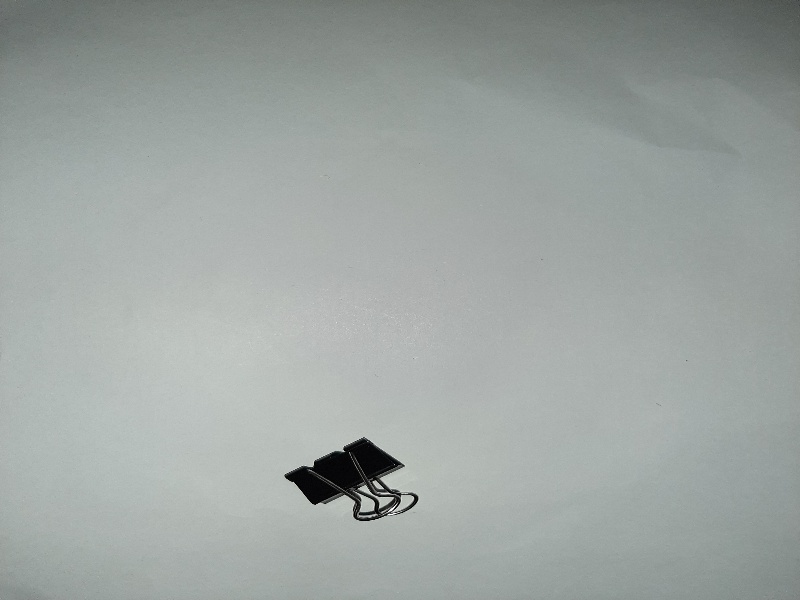Big Paperclip: (279, 432, 421, 522)
